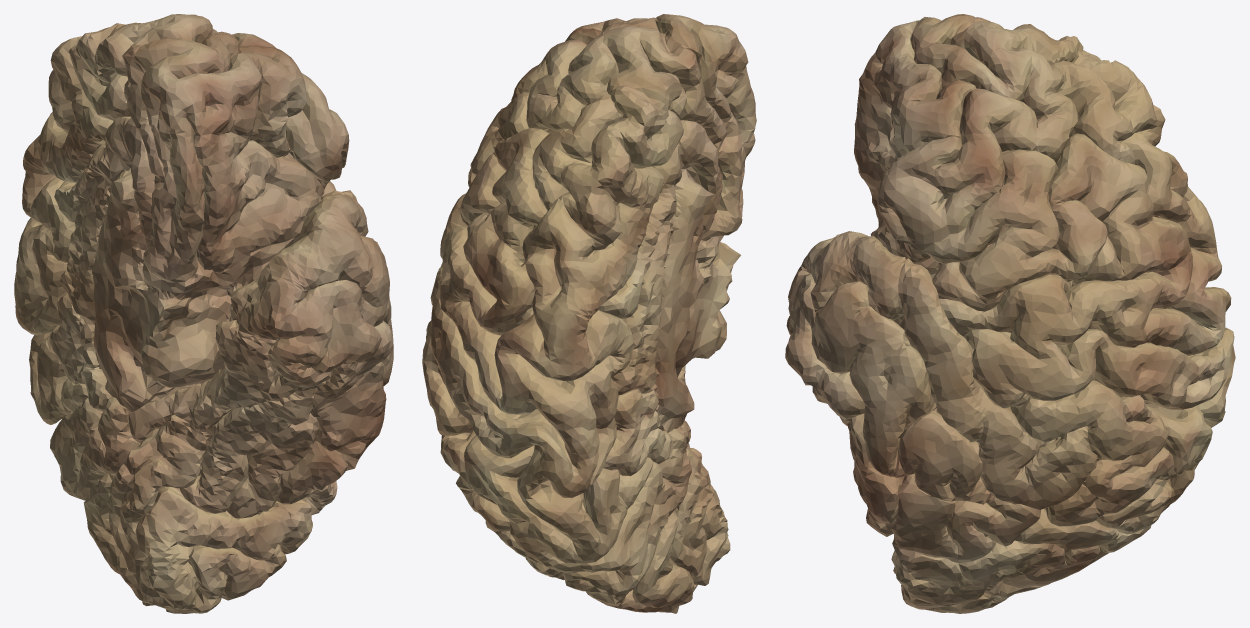
The model's file is L_Cortex.obj.
3 views of the same model, side by side, from view 1: azimuth 30°, elevation 25°; view 2: azimuth 150°, elevation 25°; view 3: azimuth 270°, elevation 25° (orthographic).
Parts seen in each view (by area): view 1: L_Cortex_final_R_Cortex_textured.002; view 2: L_Cortex_final_R_Cortex_textured.002; view 3: L_Cortex_final_R_Cortex_textured.002.
Part boxes in pixels (x1,y1,x2,y2): L_Cortex_final_R_Cortex_textured.002: [14, 14, 393, 613]; L_Cortex_final_R_Cortex_textured.002: [422, 14, 756, 613]; L_Cortex_final_R_Cortex_textured.002: [785, 14, 1235, 613].
Bounding box in the file's own units: 270 × 627 × 437.
